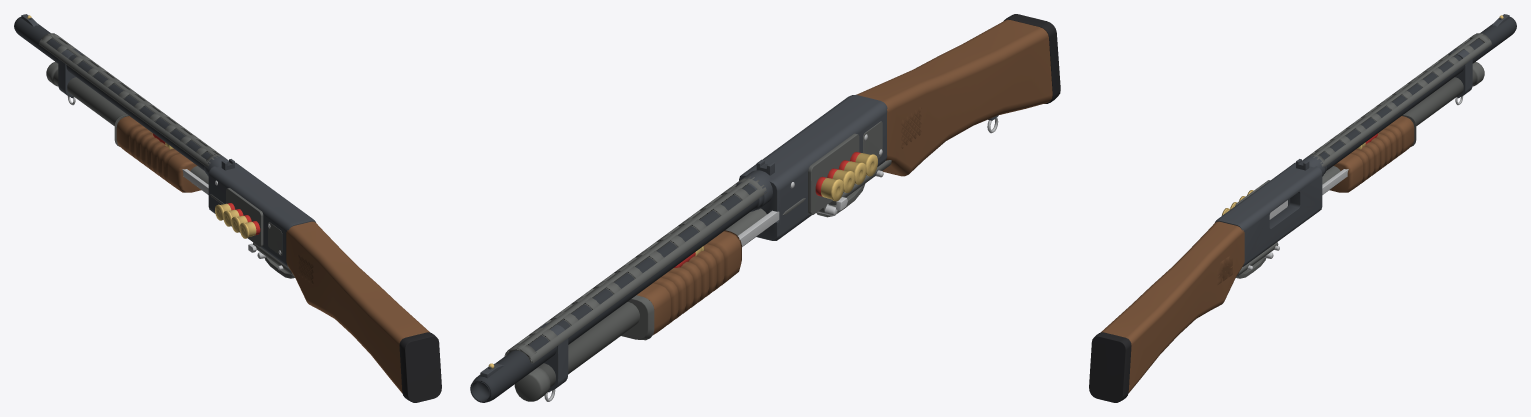
Rendered from vm_shotgun.glb.
3 views of the same model, side by side, from view 1: azimuth 30°, elevation 25°; view 2: azimuth 150°, elevation 25°; view 3: azimuth 330°, elevation 25° (orthographic). The views are drawn at different scales.
Parts seen in each view (by area): view 1: stock, receiver, heat_shield, forend, barrel, butt_pad, mag_tube, saddle_plate, barrel_band, rec_relief; view 2: stock, receiver, heat_shield, barrel, forend, mag_tube, saddle_plate, butt_pad, forend_cap, barrel_band, rec_relief, action_bars (+1 smaller); view 3: stock, receiver, heat_shield, forend, barrel, butt_pad, mag_tube, barrel_band.
Boxes of the visible parts, x1,y1,x2,y2 form: stock: (286, 221, 429, 393); receiver: (208, 162, 315, 266); heat_shield: (39, 33, 223, 167); forend: (116, 116, 201, 192); barrel: (14, 17, 228, 176); butt_pad: (399, 332, 441, 402); mag_tube: (46, 62, 208, 194); saddle_plate: (226, 188, 263, 246); barrel_band: (58, 48, 82, 96); rec_relief: (210, 194, 282, 255); stock: (856, 19, 1052, 176); receiver: (739, 95, 887, 240); heat_shield: (504, 176, 766, 363); barrel: (470, 170, 772, 402); forend: (636, 230, 741, 334); mag_tube: (514, 208, 766, 401); saddle_plate: (808, 133, 859, 214); butt_pad: (1003, 14, 1060, 103); forend_cap: (621, 295, 654, 340); barrel_band: (540, 323, 568, 390); rec_relief: (783, 121, 882, 215); action_bars: (738, 210, 779, 246); stock: (1101, 221, 1244, 393); receiver: (1215, 162, 1322, 266); heat_shield: (1307, 33, 1491, 167); forend: (1329, 116, 1414, 192); barrel: (1302, 17, 1516, 176); butt_pad: (1089, 332, 1131, 402); mag_tube: (1322, 62, 1484, 194); barrel_band: (1448, 48, 1472, 96).
Bounding box in the file's own units: 0.0731 × 0.1421 × 1.06.
